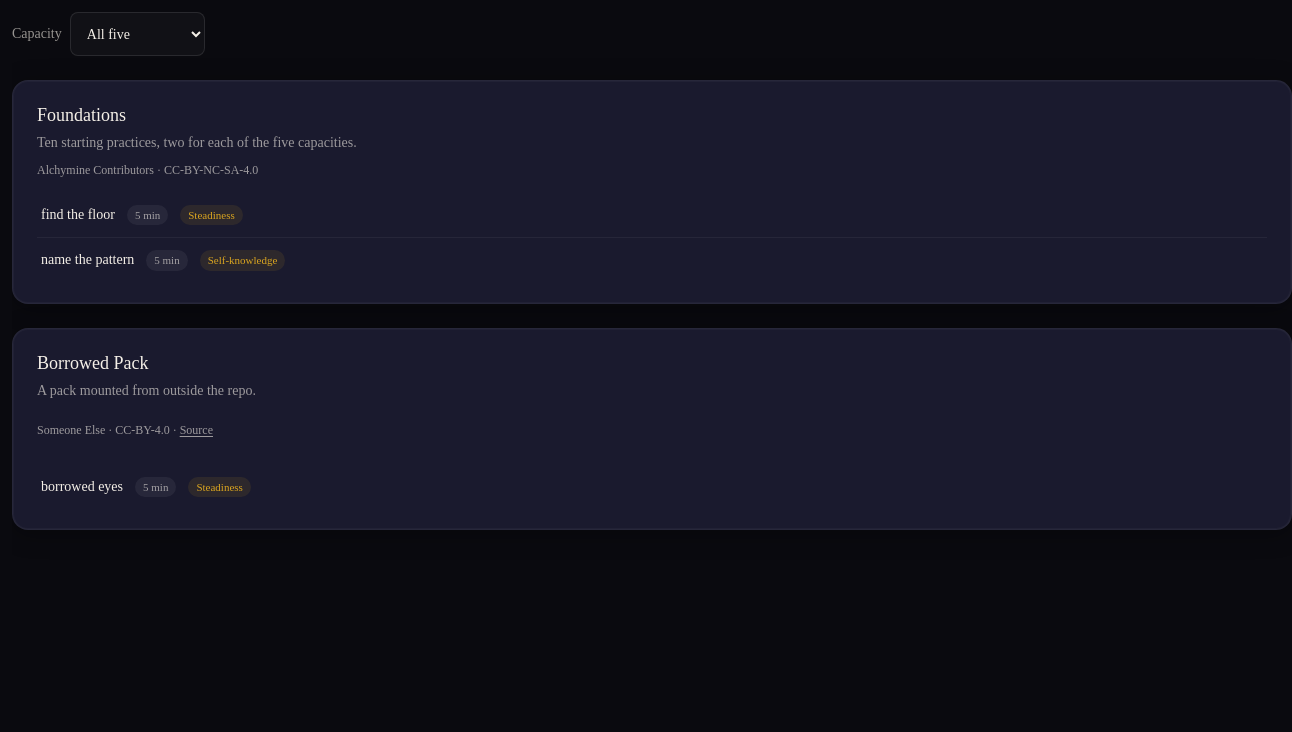
PracticeLibrary › explains an empty filter result rather than showing nothing
The image size is (1292, 732).
Select "Expression" in the dropdown labelled "Capacity" at (137, 34), box [70,12,205,56]
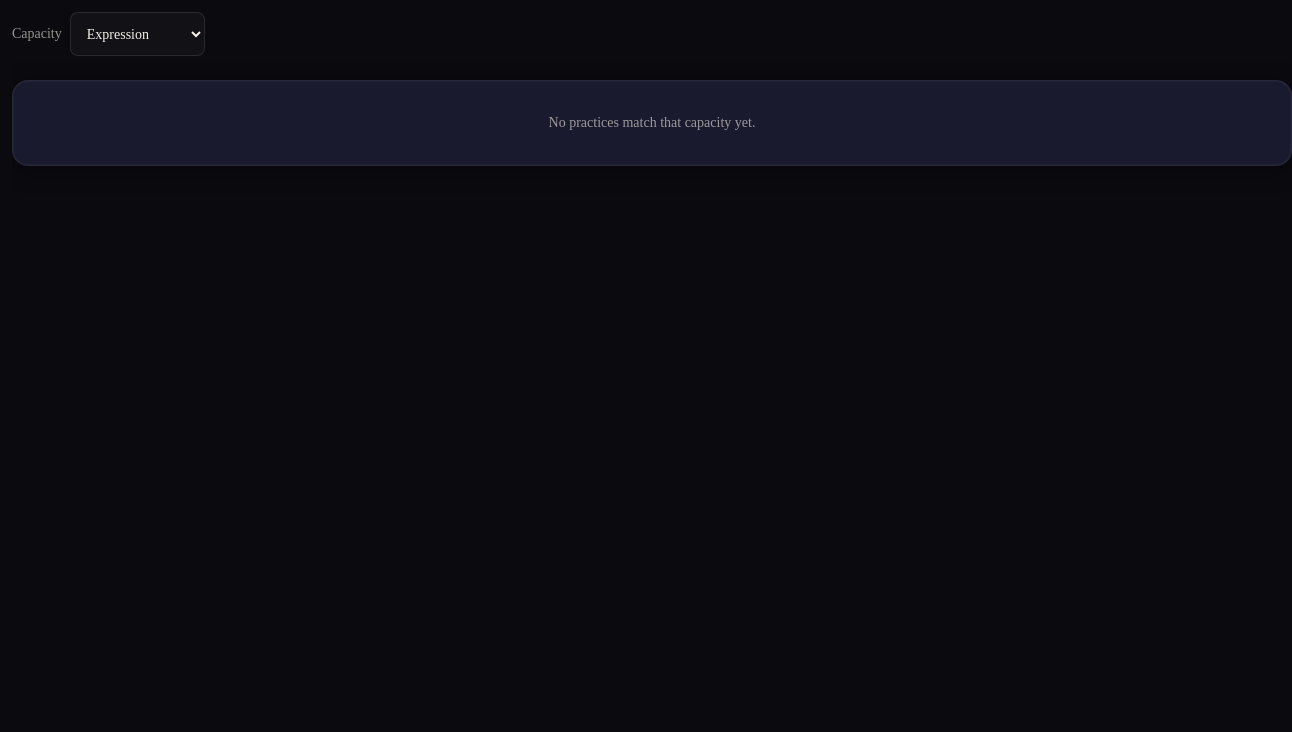
Expected: the text "No practices match that capacity yet." is shown, [12,80,1291,166]
